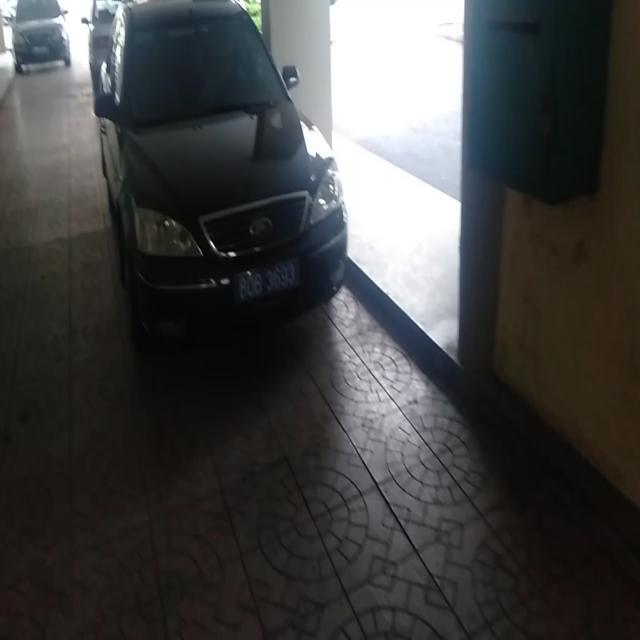bien_xanh: (234, 256, 300, 301)
